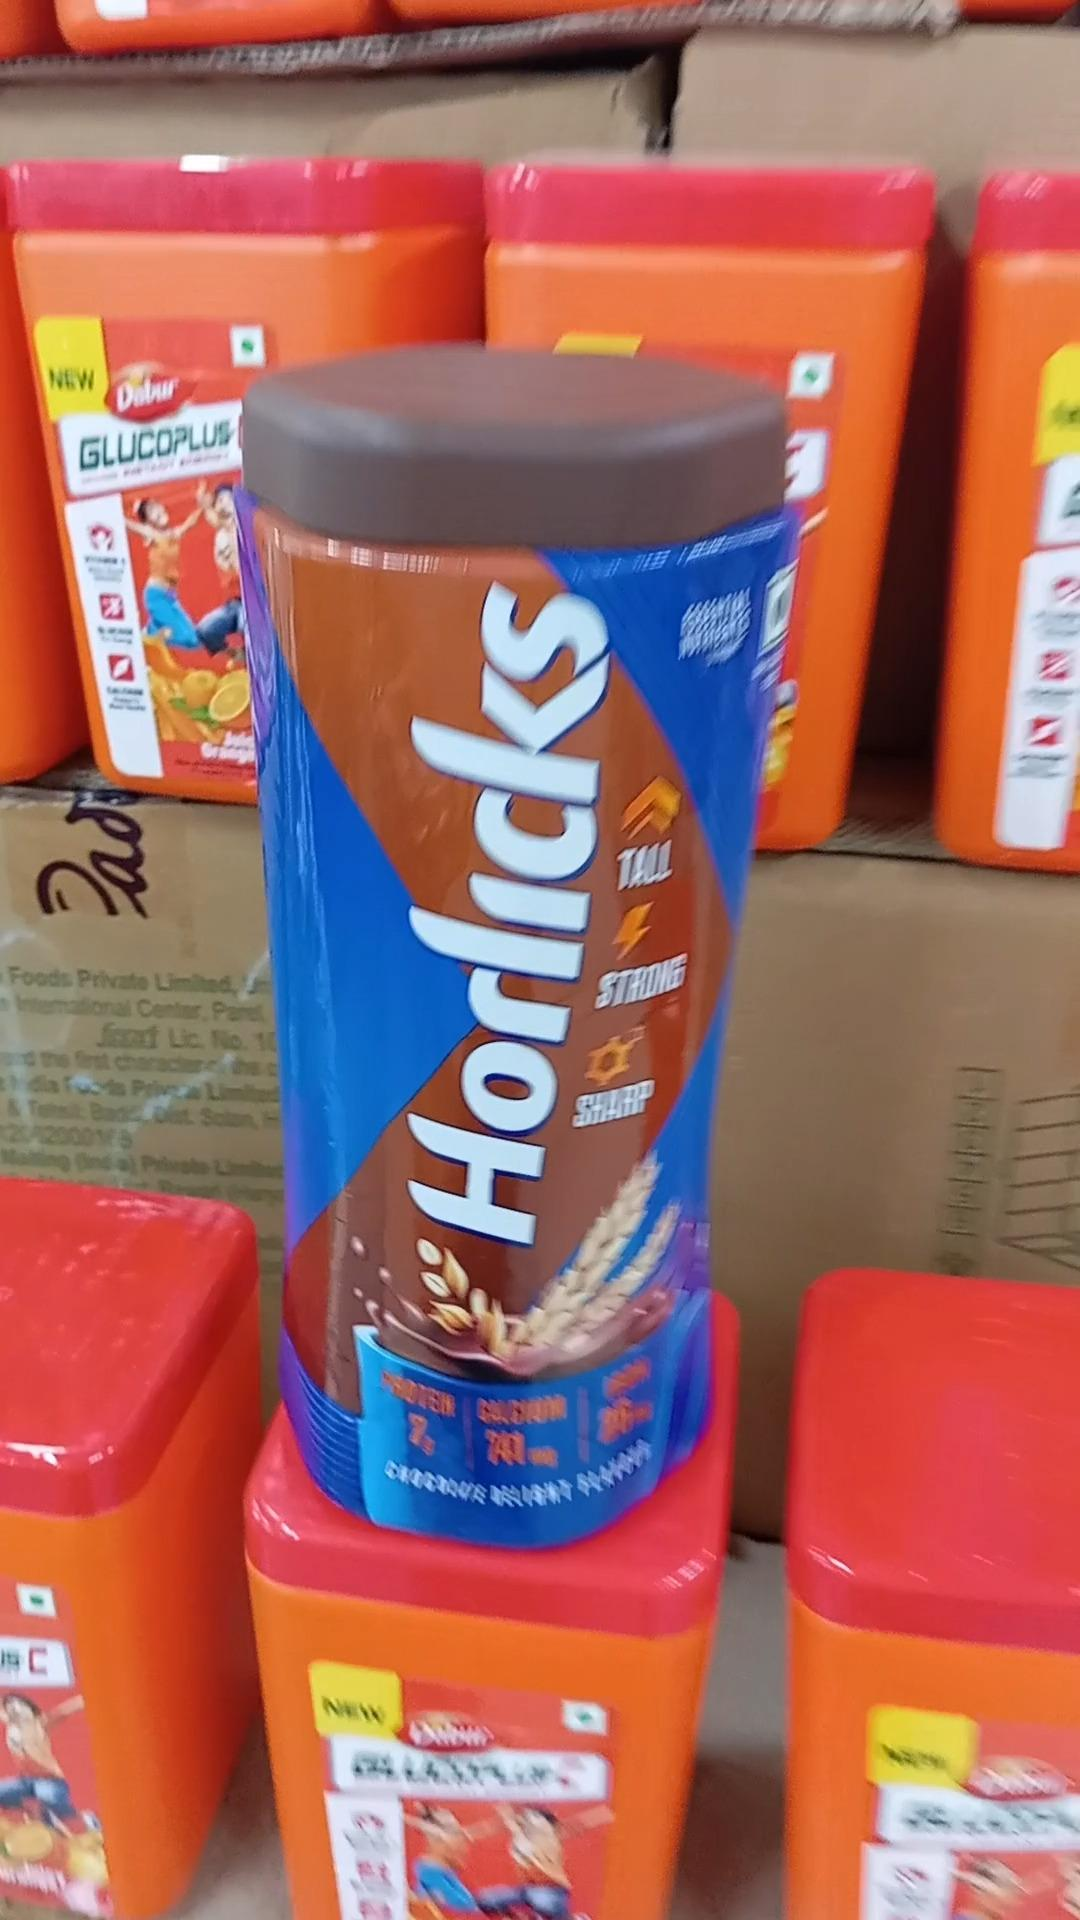HORLICK_CHOCOLATE_1_KG_JAR: (229, 343, 800, 1548)
